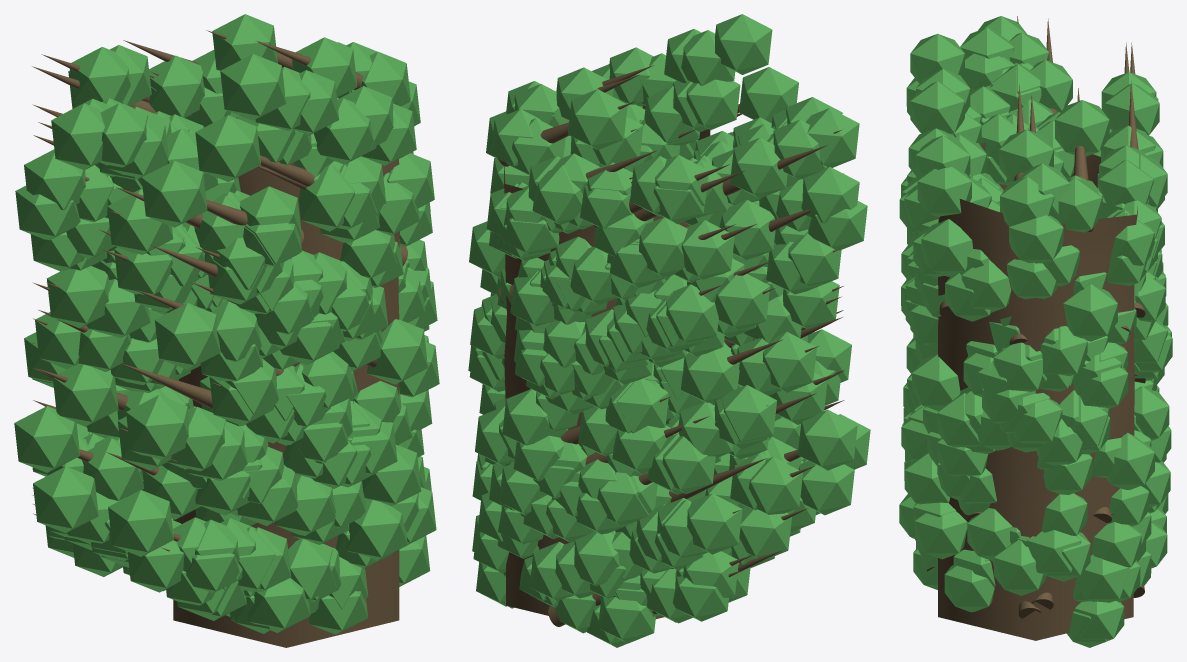
Rendered from tree_var_9016.glb.
3 renders of one model, left to right at view 1: azimuth 30°, elevation 25°; view 2: azimuth 150°, elevation 25°; view 3: azimuth 270°, elevation 25°, orthographic. The views are drawn at different scales.
Parts seen in each view (by area): view 1: tree_var_9016; view 2: tree_var_9016; view 3: tree_var_9016.
Boxes of the visible parts, x1=… form: tree_var_9016: x1=14, y1=14, x2=439, y2=647; tree_var_9016: x1=468, y1=14, x2=870, y2=647; tree_var_9016: x1=899, y1=16, x2=1172, y2=647.
Size of the model in its own units: 3.64 by 5.31 by 2.42.
